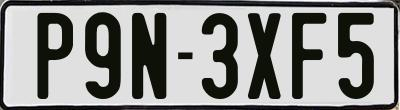3: (201, 13, 239, 99)
5: (338, 13, 380, 104)
9: (84, 11, 120, 102)
F: (292, 13, 330, 101)
N: (132, 10, 167, 98)
P: (34, 13, 73, 100)
X: (248, 11, 284, 102)
